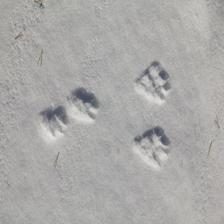rabbit: (129, 128, 173, 174), (129, 61, 174, 103)
